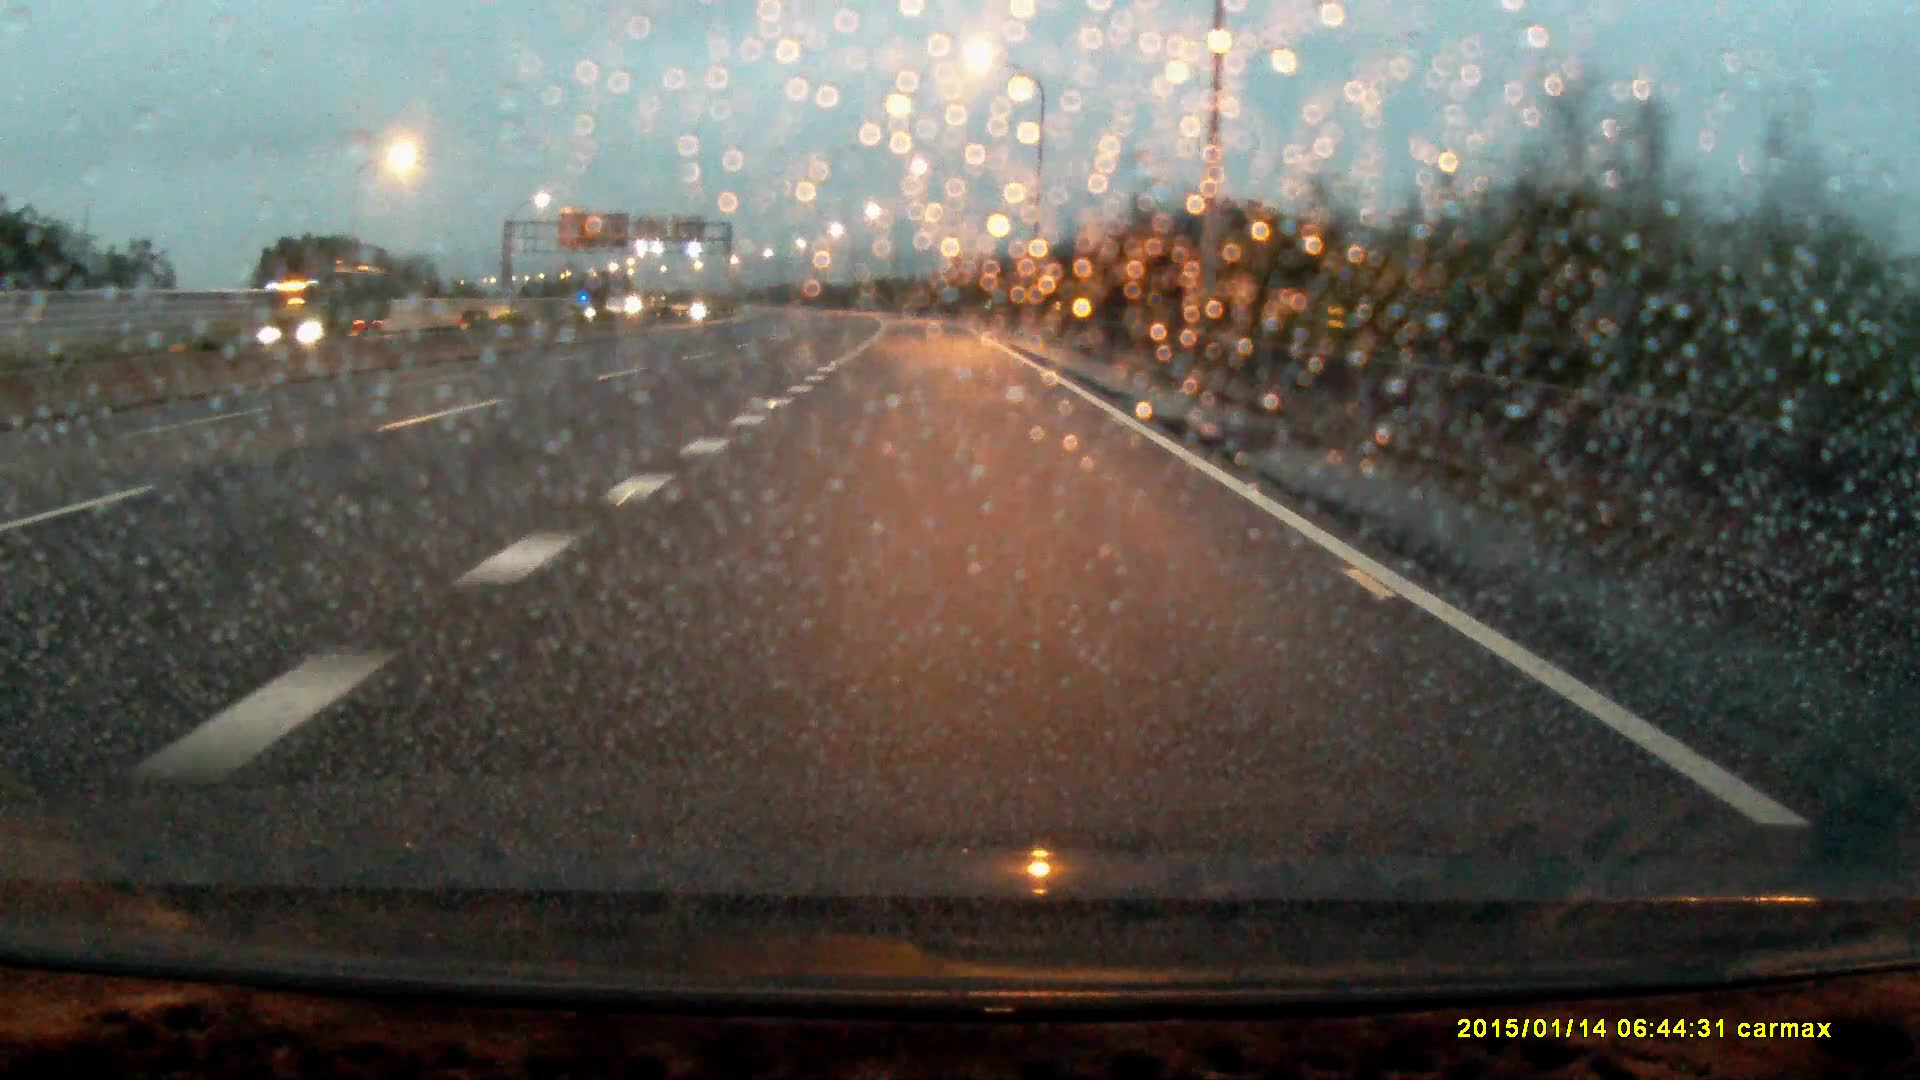vehicle: (257, 276, 382, 345)
